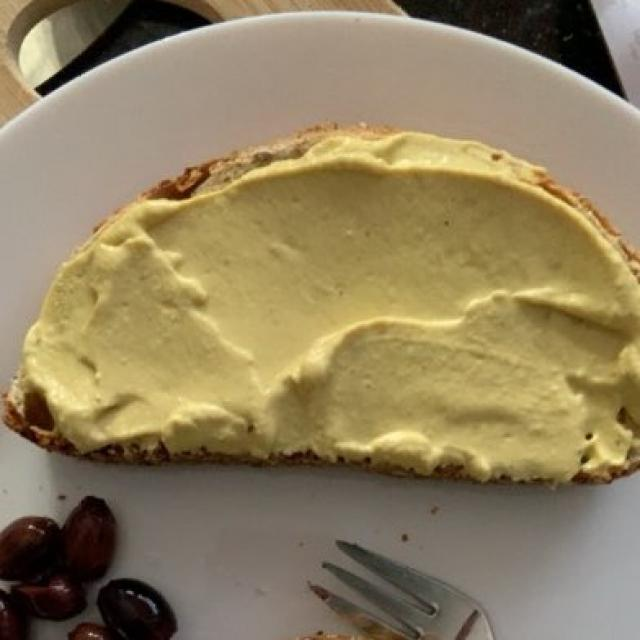bread-whole-wheat: (16, 128, 618, 480)
hummus: (18, 146, 636, 490)
